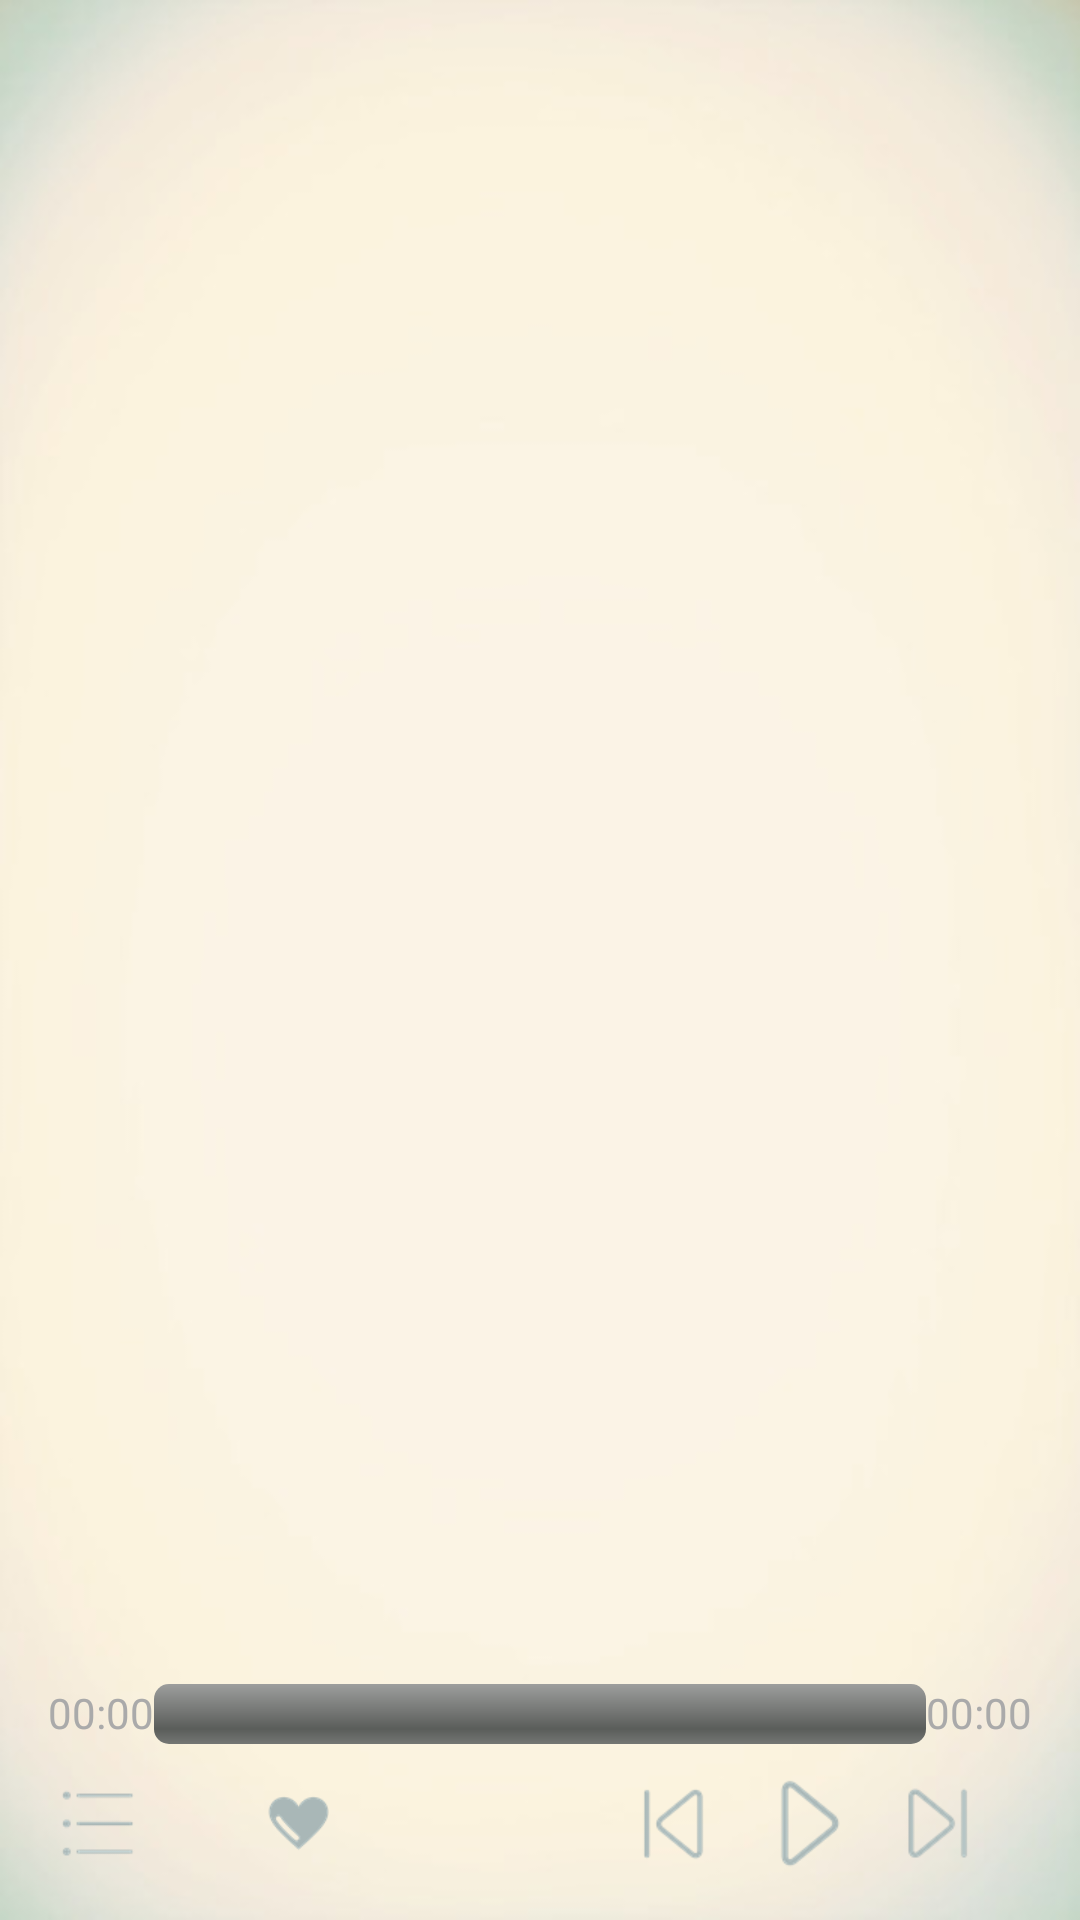

Locate icon controls on the screen. Image size 1080 x 1920, boxes as (x1, y1, x2, y2).
next song: (908, 1789, 967, 1858)
order: (62, 1792, 133, 1856)
play: (781, 1781, 839, 1865)
pre song: (644, 1790, 703, 1858)
shou cang: (269, 1797, 328, 1850)
